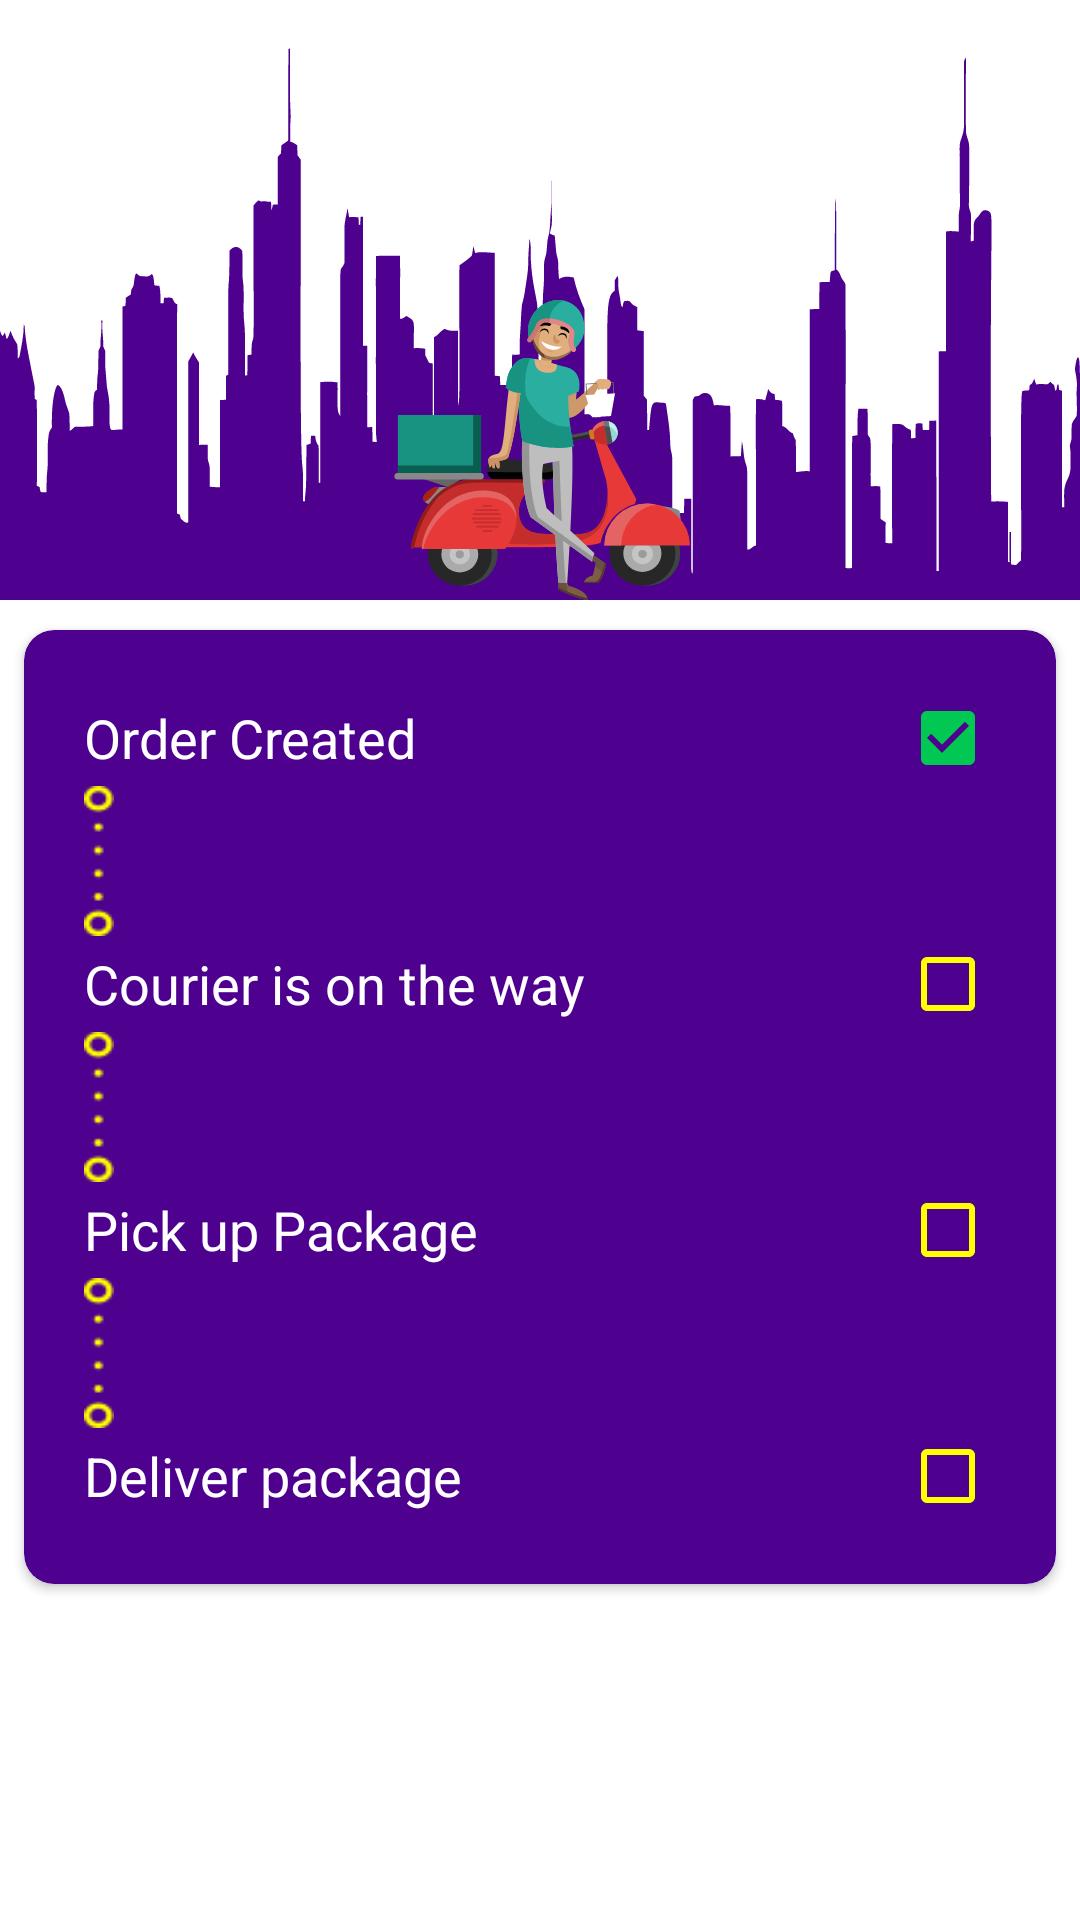

Where to tap for icons on this 1080px×1920px app screen, as (x=x, y=y):
deliverman: (x=540, y=450)
from to: (x=99, y=861), (x=99, y=1107), (x=99, y=1353)
